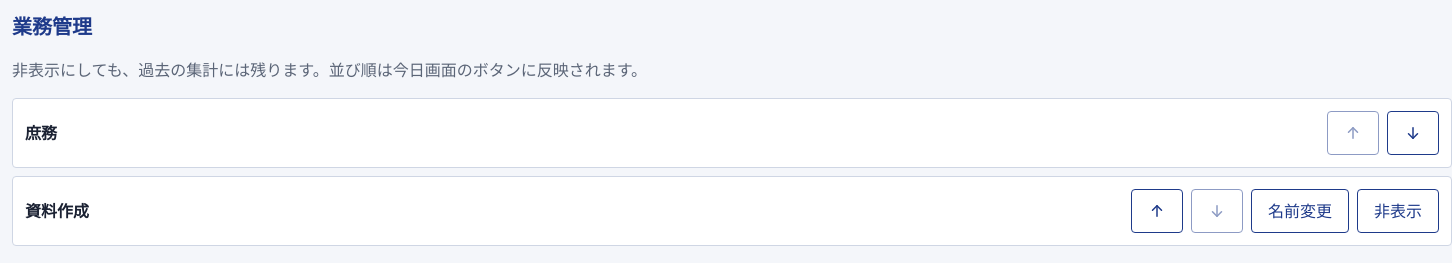
Test: TasksScreen › 非表示にすると「非表示中」になり、再表示で戻る
Click the button "非表示". click: coordinates (1398, 211)
box: [1357,189,1439,233]
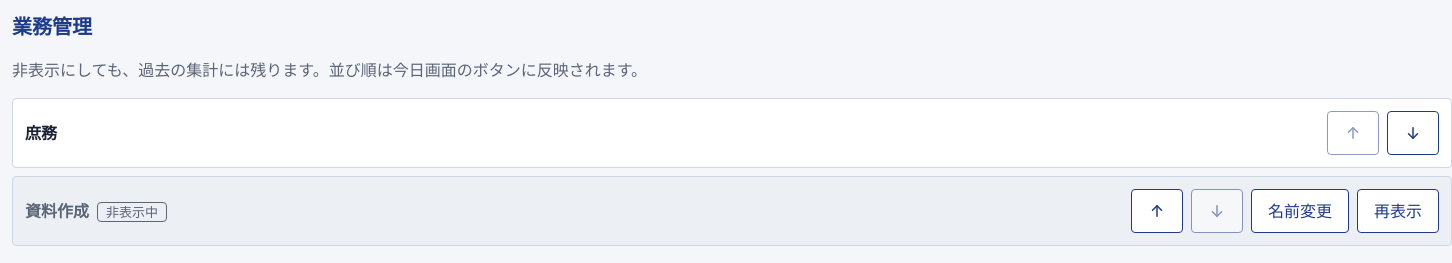
Now the text "非表示中" is shown, box [97,202,167,222]
Click the button "再表示". click: coordinates (1398, 211)
box: [1357,189,1439,233]
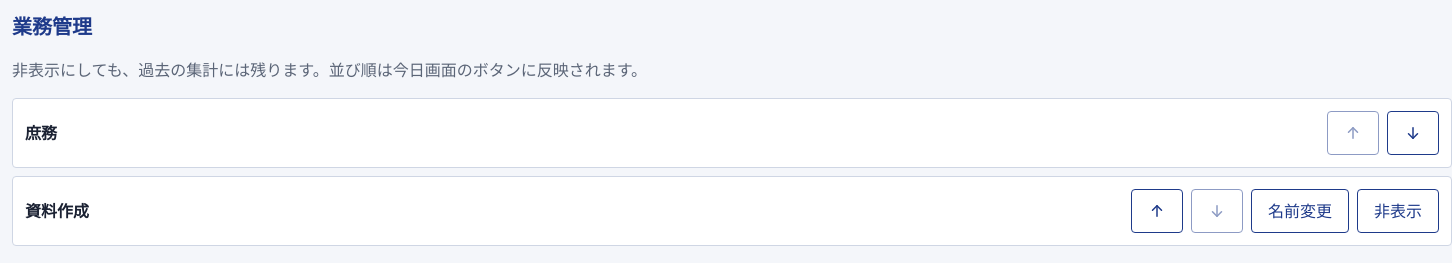
Now the text "非表示中" is gone
